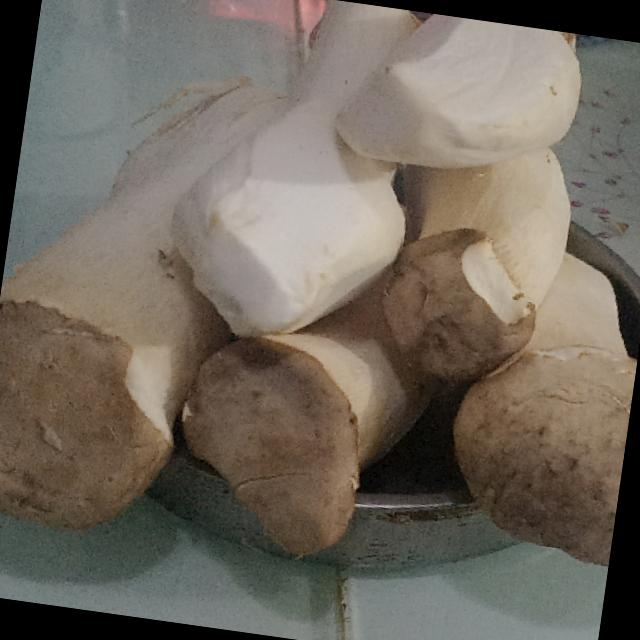Pleurotus eryngii: (0, 0, 640, 605)
